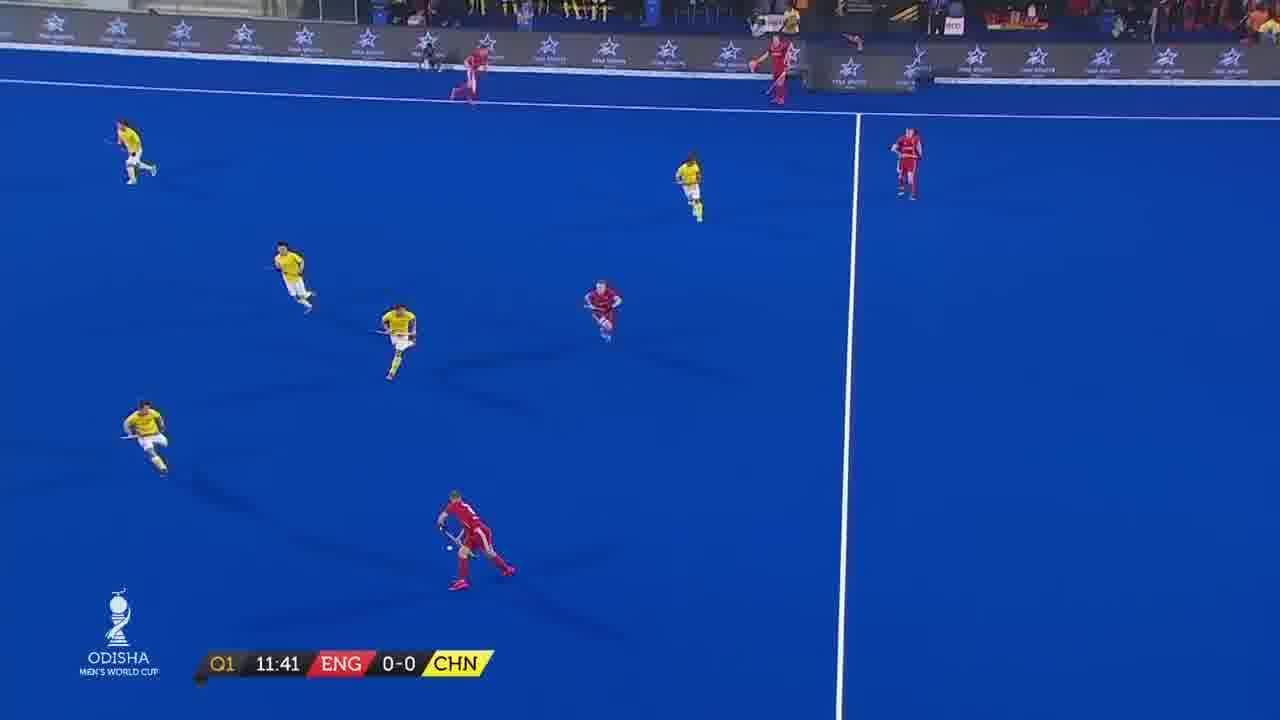ball: (444, 544, 454, 554)
